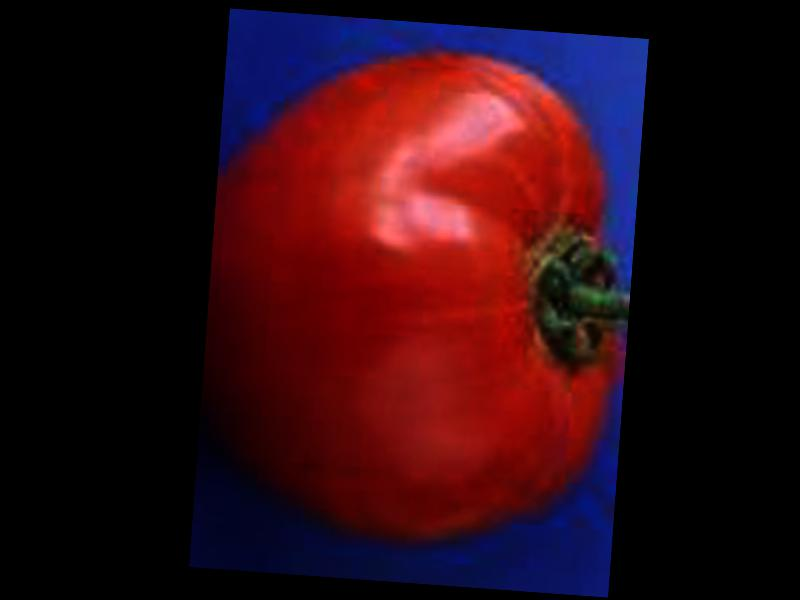Tomato: (194, 36, 643, 558)
